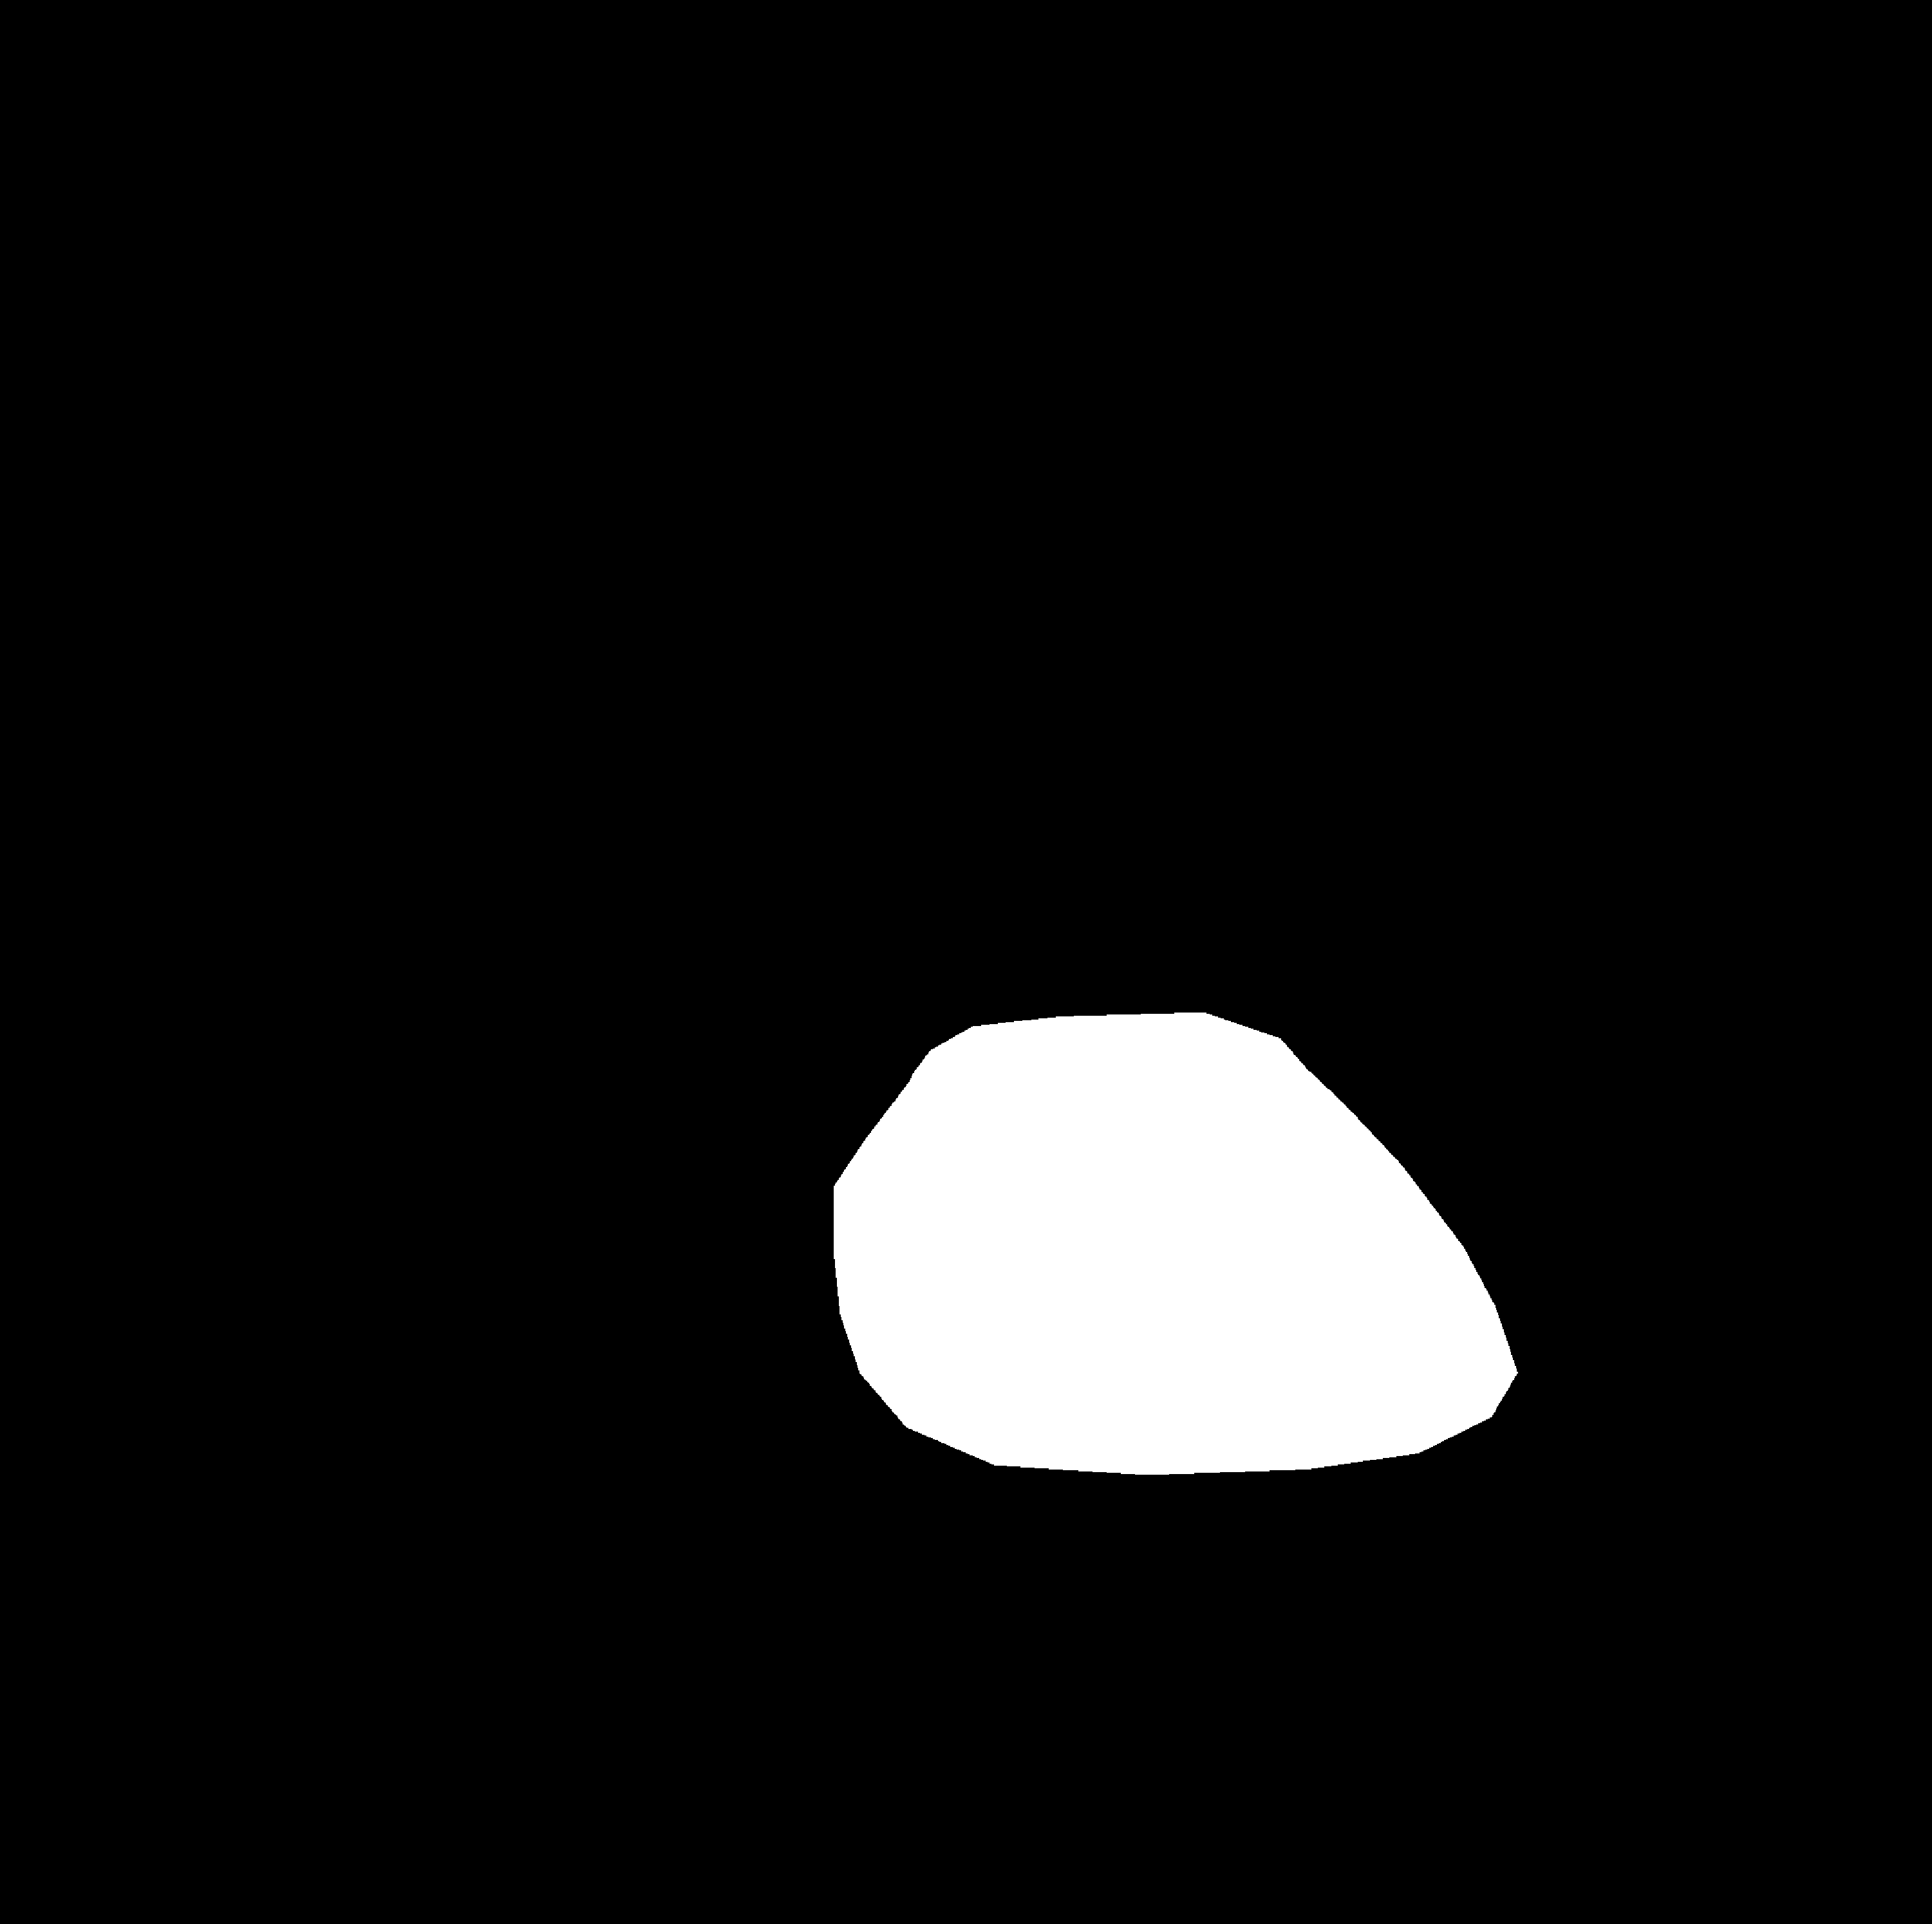heart: (830, 1048, 1535, 1485)
left_lung: (296, 328, 931, 1549)
right_lung: (1107, 344, 1687, 1469)
